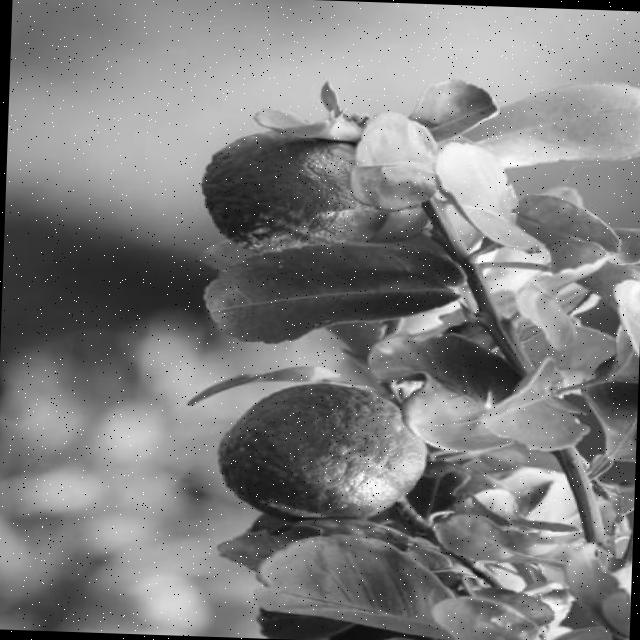Unripe: (214, 378, 431, 527)
